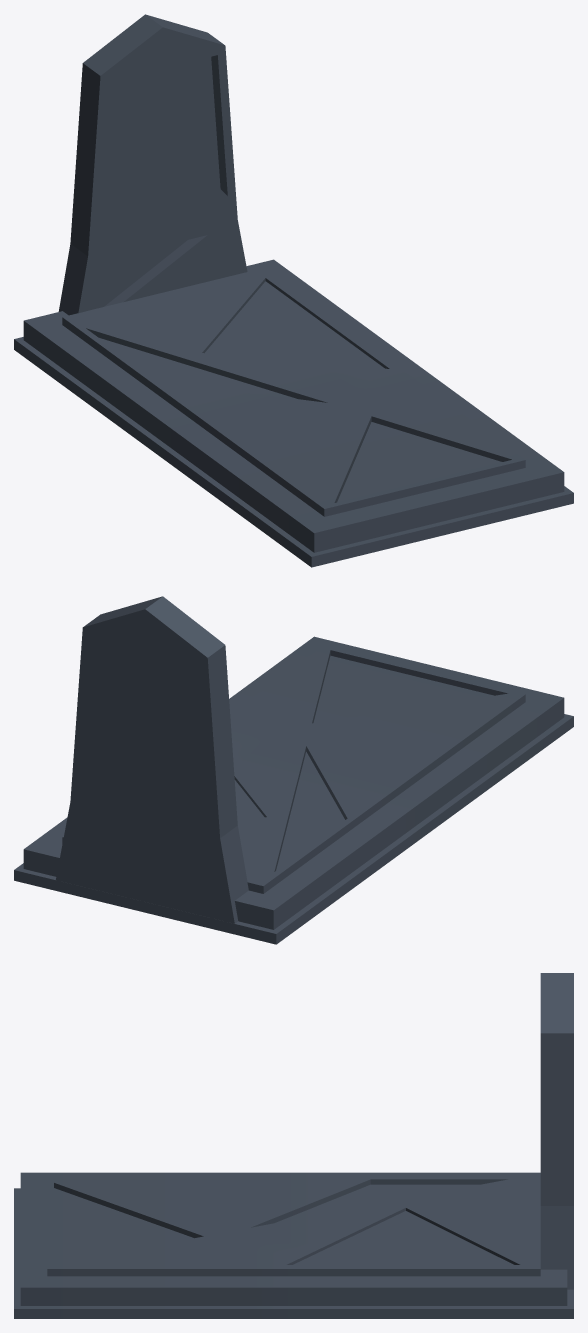
Rendered from Grave.fbx.
The picture shows the model from 3 angles, top to bottom: view 1: azimuth 30°, elevation 25°; view 2: azimuth 150°, elevation 25°; view 3: azimuth 270°, elevation 25°; orthographic projection. The views are drawn at different scales.
Parts seen in each view (by area): view 1: Cube.003; view 2: Cube.003; view 3: Cube.003.
Part boxes in pixels (x1,y1,x2,y2): Cube.003: (14,14,573,567); Cube.003: (14,596,573,944); Cube.003: (14,973,573,1318).
Bounding box in the file's own units: 116 × 128 × 228.
1 material, 1 textured.
